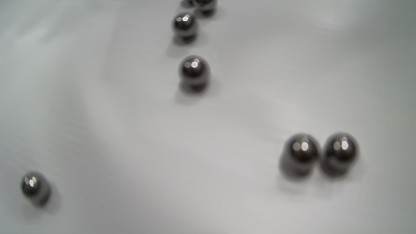ironball: (280, 133, 319, 176), (322, 132, 358, 175), (179, 55, 210, 91), (21, 171, 51, 206), (172, 12, 197, 41), (194, 0, 217, 15), (181, 0, 195, 7)
